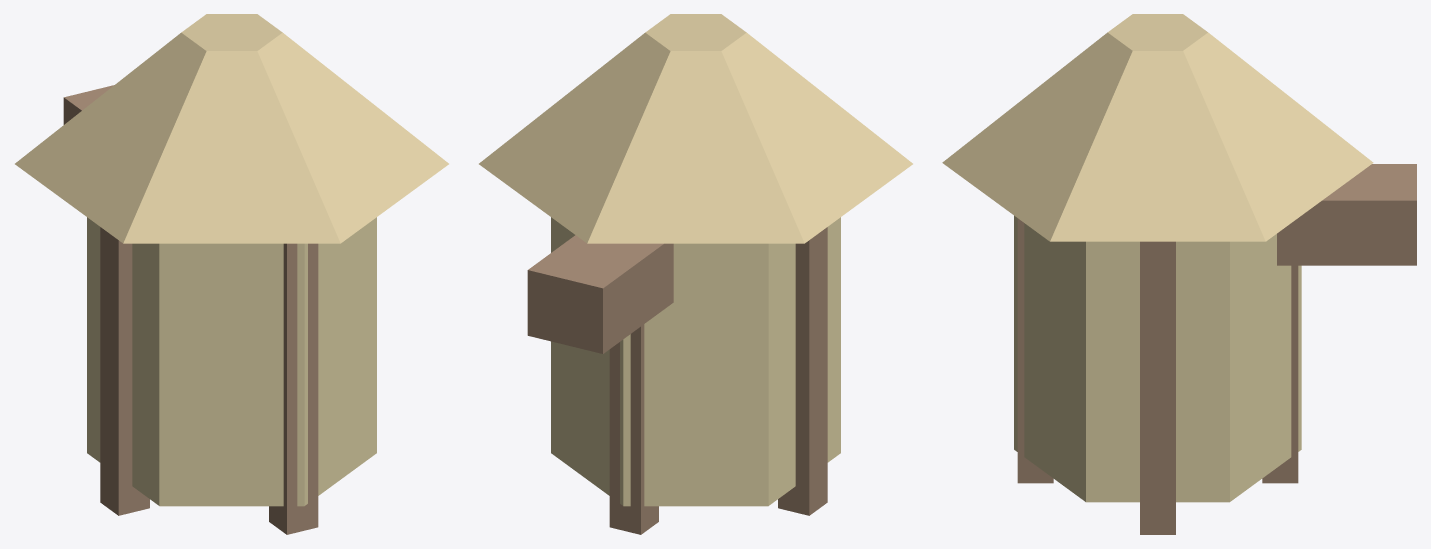
Rendered from porch_lantern.fbx.
3 views of the same model, side by side, from view 1: azimuth 30°, elevation 25°; view 2: azimuth 150°, elevation 25°; view 3: azimuth 270°, elevation 25° (orthographic).
Visible parts, largest first — view 1: porch_lantern_geometry; view 2: porch_lantern_geometry; view 3: porch_lantern_geometry.
Part boxes in pixels (x1,y1,x2,y2): porch_lantern_geometry: [15, 14, 448, 534]; porch_lantern_geometry: [479, 14, 912, 534]; porch_lantern_geometry: [942, 14, 1416, 534].
Size of the model in its own units: 0.2598 by 0.34 by 0.33.
